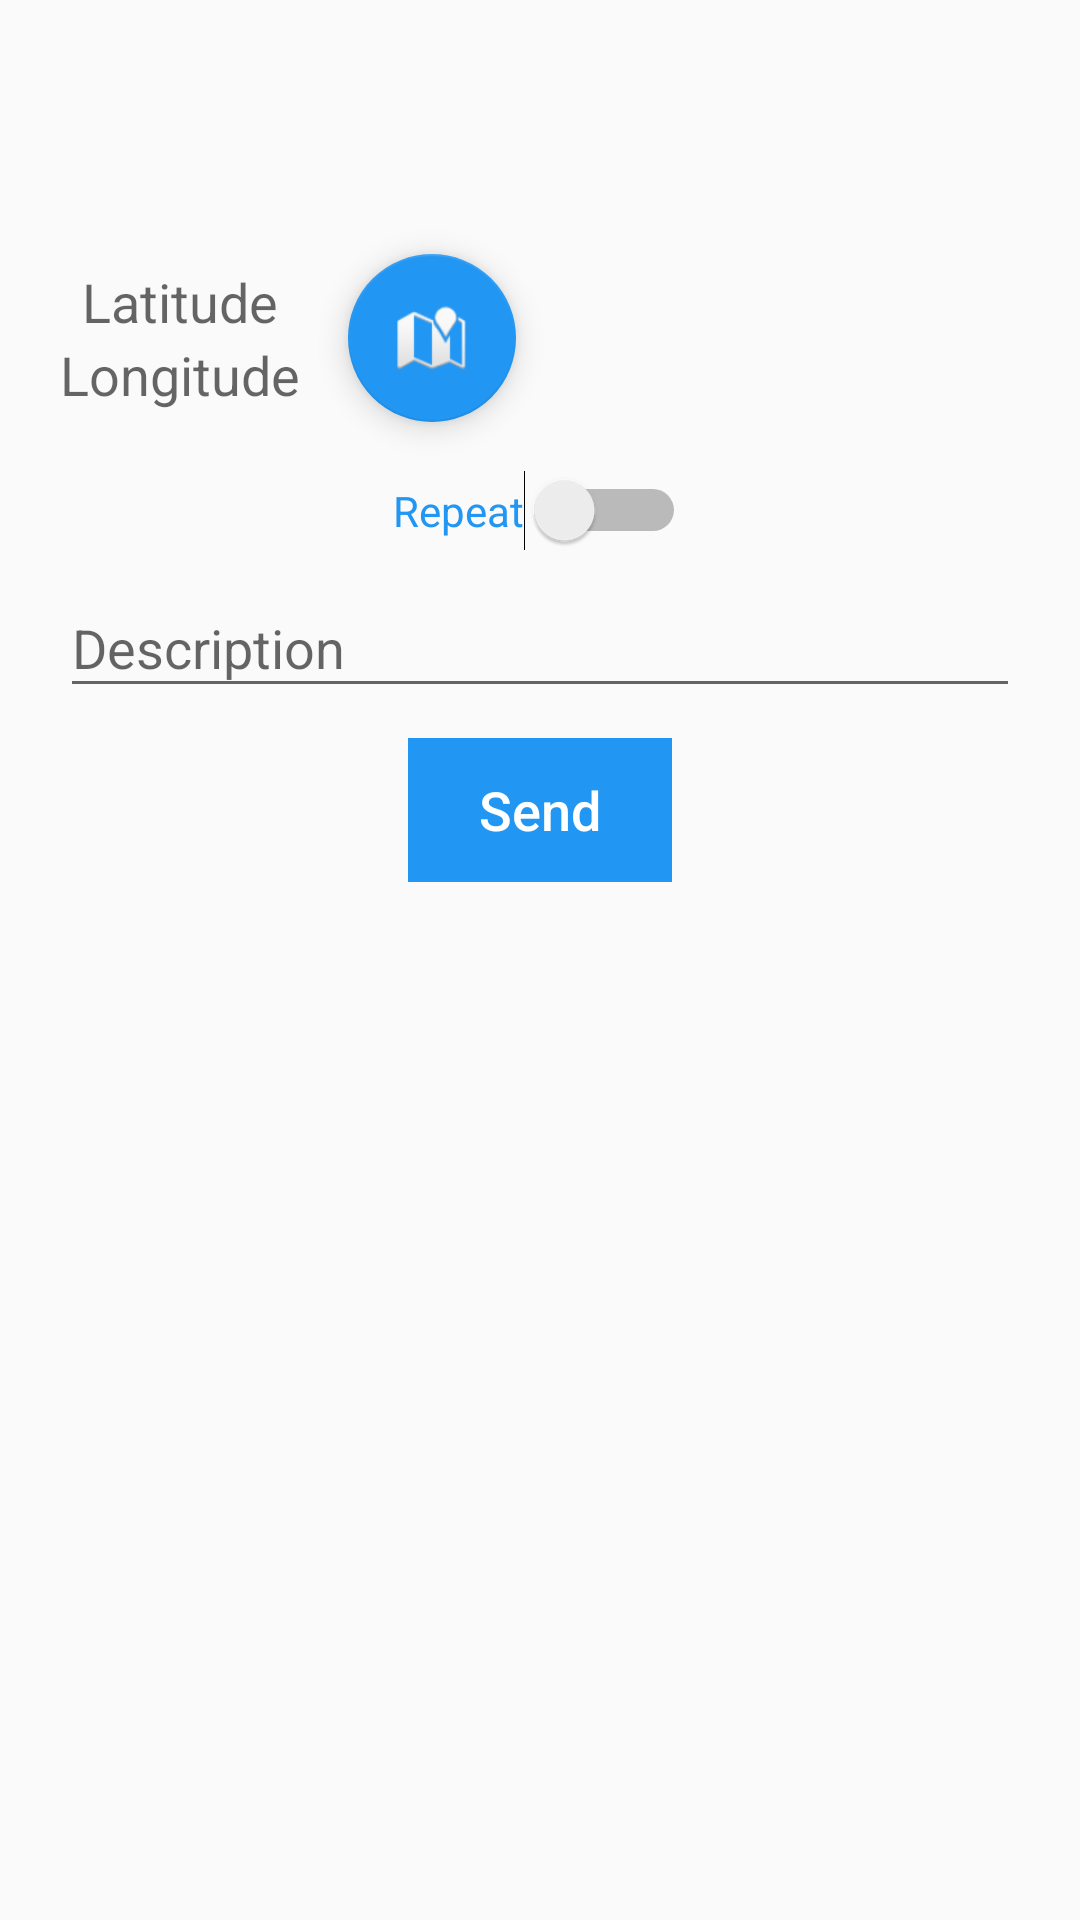

Screen size 1080×1920. Icon name, then its center in pixels as point (x, y):
map: point (432, 338)
